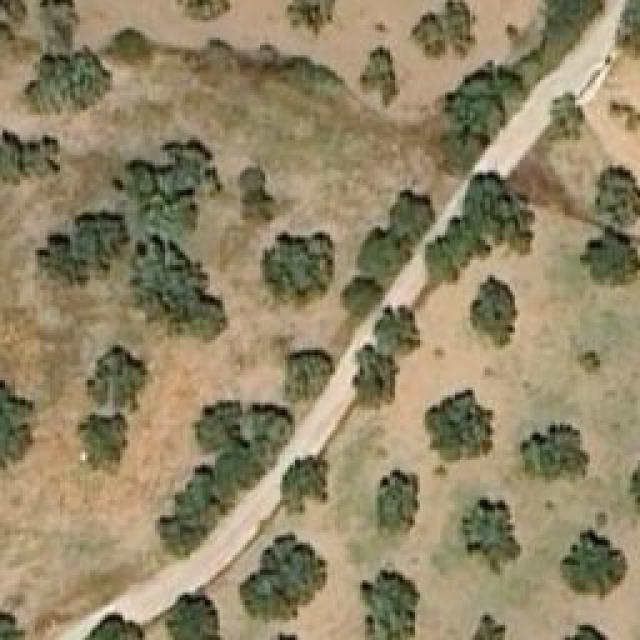Tree: (130, 263, 228, 343), (240, 532, 328, 620), (353, 305, 426, 410), (35, 210, 133, 288), (128, 140, 213, 220), (435, 63, 510, 153), (18, 45, 113, 115), (445, 498, 523, 583), (425, 388, 493, 481), (560, 513, 628, 603), (470, 170, 538, 254), (260, 230, 335, 305), (360, 570, 420, 640), (88, 345, 148, 410), (520, 423, 590, 478), (470, 275, 518, 350), (577, 227, 640, 284), (413, 0, 478, 55), (0, 373, 35, 468), (0, 130, 60, 185), (78, 413, 128, 476), (195, 395, 249, 450), (378, 467, 421, 535), (240, 167, 290, 225), (280, 455, 330, 513), (595, 167, 640, 225), (168, 595, 223, 640), (360, 225, 405, 280), (285, 350, 335, 398), (360, 45, 398, 105), (553, 93, 593, 143), (285, 0, 340, 35), (103, 30, 156, 63), (80, 615, 148, 640), (393, 192, 426, 240), (342, 275, 380, 315), (37, 0, 80, 32), (617, 0, 640, 57), (175, 0, 230, 20), (470, 615, 510, 640), (558, 625, 618, 640), (0, 0, 28, 20), (578, 350, 601, 373)
